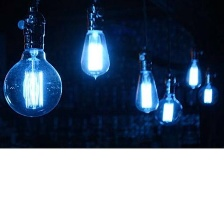light_bulb: (0, 26, 66, 121), (77, 5, 112, 82), (131, 53, 161, 115), (152, 80, 186, 128), (183, 55, 205, 92), (195, 79, 220, 107)
